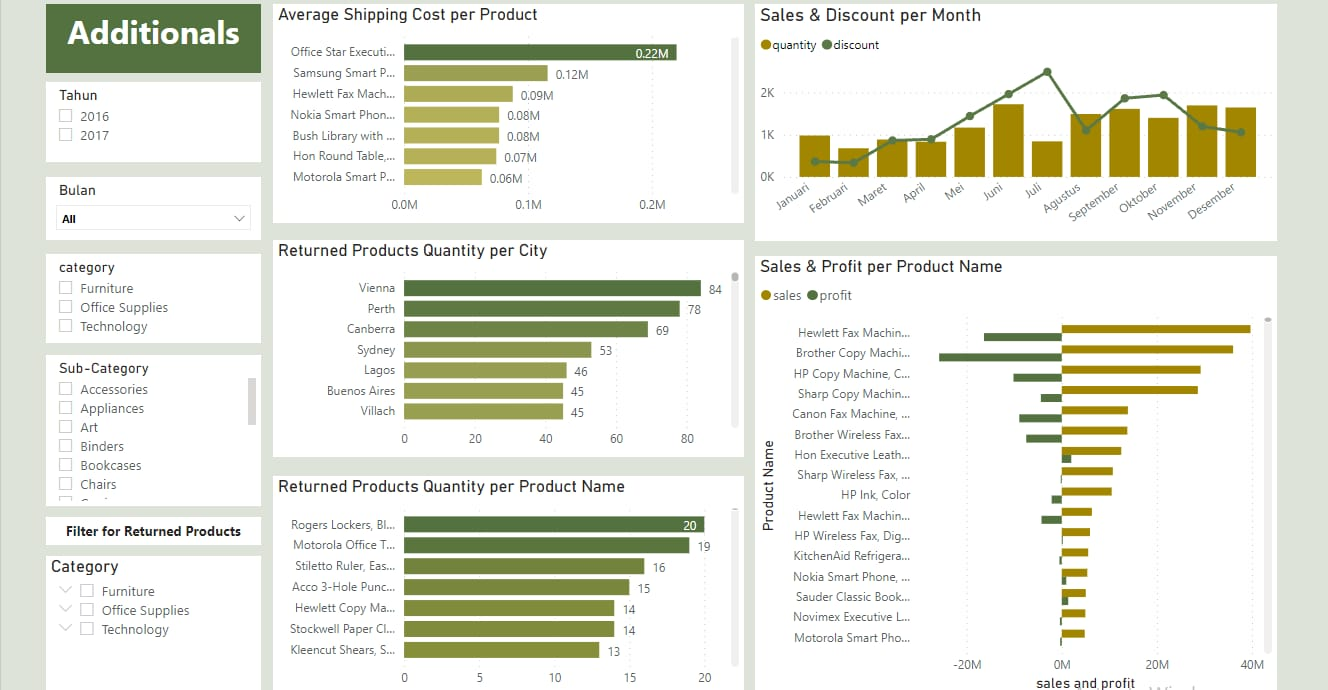

The dashboard page shown, as its layout file describes it:
{"tool":"powerbi","page":{"name":"Additionals","canvas":[1280,720],"ordinal":2},"visuals":[{"type":"textbox","box":[19.3,9.6,214.7,68.8],"z":0},{"type":"lineStackedColumnComboChart","title":"Sales & Discount per Month","fields":{"Category":["FACT_CustTrx.Order Date.Variasi.Hierarki Tanggal.Bulan"],"Y2":["Sum(FACT_CustTrx.discount)"],"Y":["Sum(FACT_CustTrx.quantity)"]},"box":[728.1,9.6,521.6,236.7],"z":1000},{"type":"slicer","fields":{"Values":["FACT_CustTrx.Order Date.Variasi.Hierarki Tanggal.Tahun"]},"box":[19.3,88.1,214.7,79.8],"z":2000},{"type":"slicer","title":"Month","fields":{"Values":["FACT_CustTrx.Order Date.Variasi.Hierarki Tanggal.Bulan"]},"box":[19.3,183.1,214.7,63.3],"z":3000},{"type":"clusteredBarChart","title":"Average Shipping Cost per Product","fields":{"Category":["FACT_CustTrx.Product Name"],"Y":["Avg(FACT_CustTrx.Shipping Cost)"]},"box":[246.4,9.6,470.7,218.8],"z":4000},{"type":"clusteredBarChart","title":"Returned Products Quantity per Product Name","fields":{"Y":["Sum(FACT_Return.quantity)"],"Category":["FACT_Return.Product Name"]},"box":[246.4,481.7,470.7,220.2],"z":5000},{"type":"clusteredBarChart","title":"Returned Products Quantity per City","fields":{"Y":["Sum(FACT_Return.quantity)"],"Category":["FACT_Return.city"]},"box":[246.4,246.4,470.7,217.5],"z":6000},{"type":"clusteredBarChart","title":"Sales & Profit per Product Name","fields":{"Category":["FACT_CustTrx.Product Name"],"Y":["Sum(FACT_CustTrx.sales)","Sum(FACT_CustTrx.profit)"]},"box":[728.1,261.5,521.6,440.4],"z":7000},{"type":"slicer","fields":{"Values":["FACT_CustTrx.category"]},"box":[19.3,260.1,214.7,89.5],"z":8000},{"type":"textbox","box":[19.3,523,214.7,27.5],"z":9000},{"type":"slicer","title":"Category","fields":{"Values":["FACT_Return.category","FACT_Return.Sub-Category"]},"box":[19.3,561.5,214.7,139],"z":10000},{"type":"slicer","fields":{"Values":["FACT_CustTrx.Sub-Category"]},"box":[19.3,360.6,214.7,151.4],"z":11000}]}

Visuals, with their boxes on the page's 1280x720 design canvas (x1, y1, x2, y2). These are canvas units, not pixel positions in the 1328x690 screenshot, which may show the page scaled, cropped or inside an application window:
textbox: Rect(19, 10, 234, 78)
"Sales & Discount per Month" lineStackedColumnComboChart: Rect(728, 10, 1250, 246)
slicer - FACT_CustTrx.Order Date.Variasi.Hierarki Tanggal.Tahun: Rect(19, 88, 234, 168)
"Month" slicer: Rect(19, 183, 234, 246)
"Average Shipping Cost per Product" clusteredBarChart: Rect(246, 10, 717, 228)
"Returned Products Quantity per Product Name" clusteredBarChart: Rect(246, 482, 717, 702)
"Returned Products Quantity per City" clusteredBarChart: Rect(246, 246, 717, 464)
"Sales & Profit per Product Name" clusteredBarChart: Rect(728, 262, 1250, 702)
slicer - FACT_CustTrx.category: Rect(19, 260, 234, 350)
textbox: Rect(19, 523, 234, 550)
"Category" slicer: Rect(19, 562, 234, 700)
slicer - FACT_CustTrx.Sub-Category: Rect(19, 361, 234, 512)
